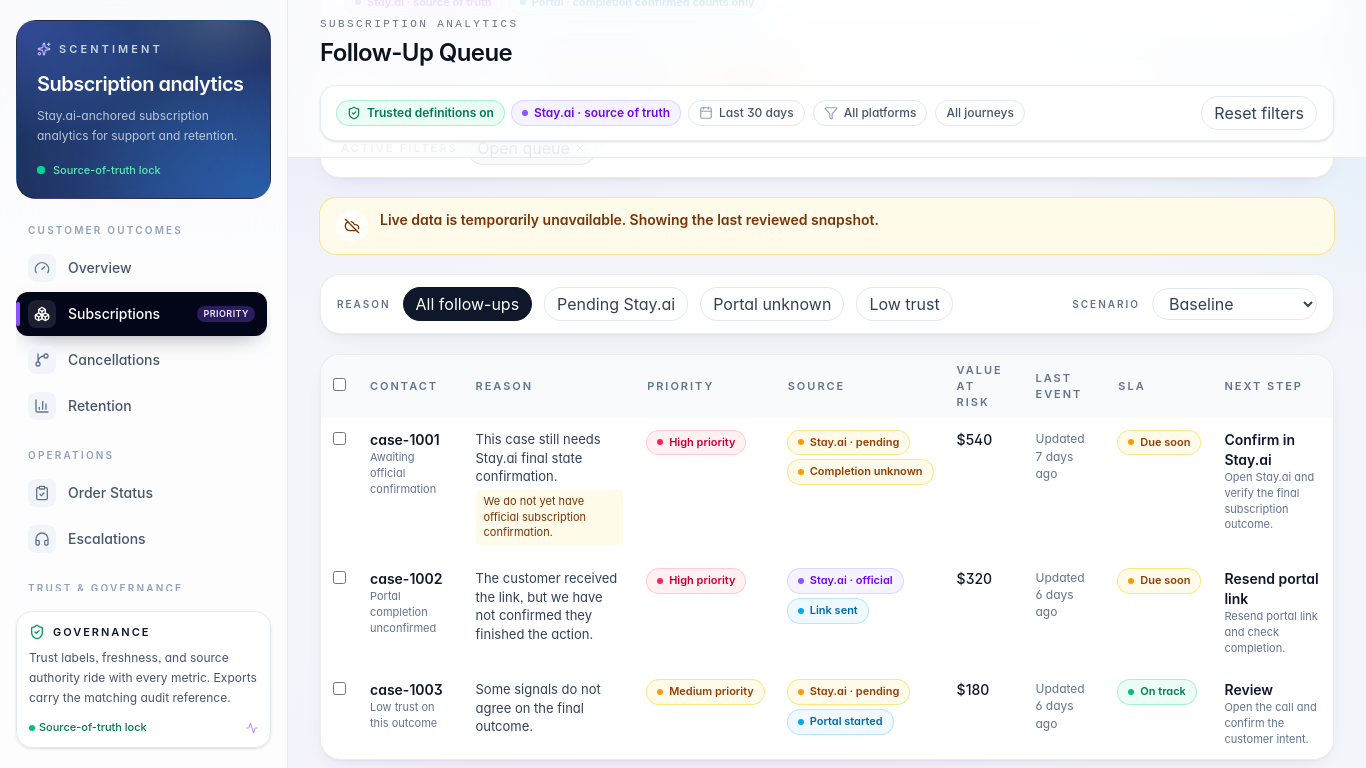
Test case: Follow-Up Queue page (B4) › renders the operator table with at least one row and supports row selection
(page scrolled)
Check: the table with test id "follow-up-table" is shown, box [321, 355, 1333, 759]
What coordinates should you click on to do the following:
click the checkbox named "Select all visible follow-ups"
I would click on:
 (340, 384)
Its box is [333, 378, 346, 391].
(page scrolled)
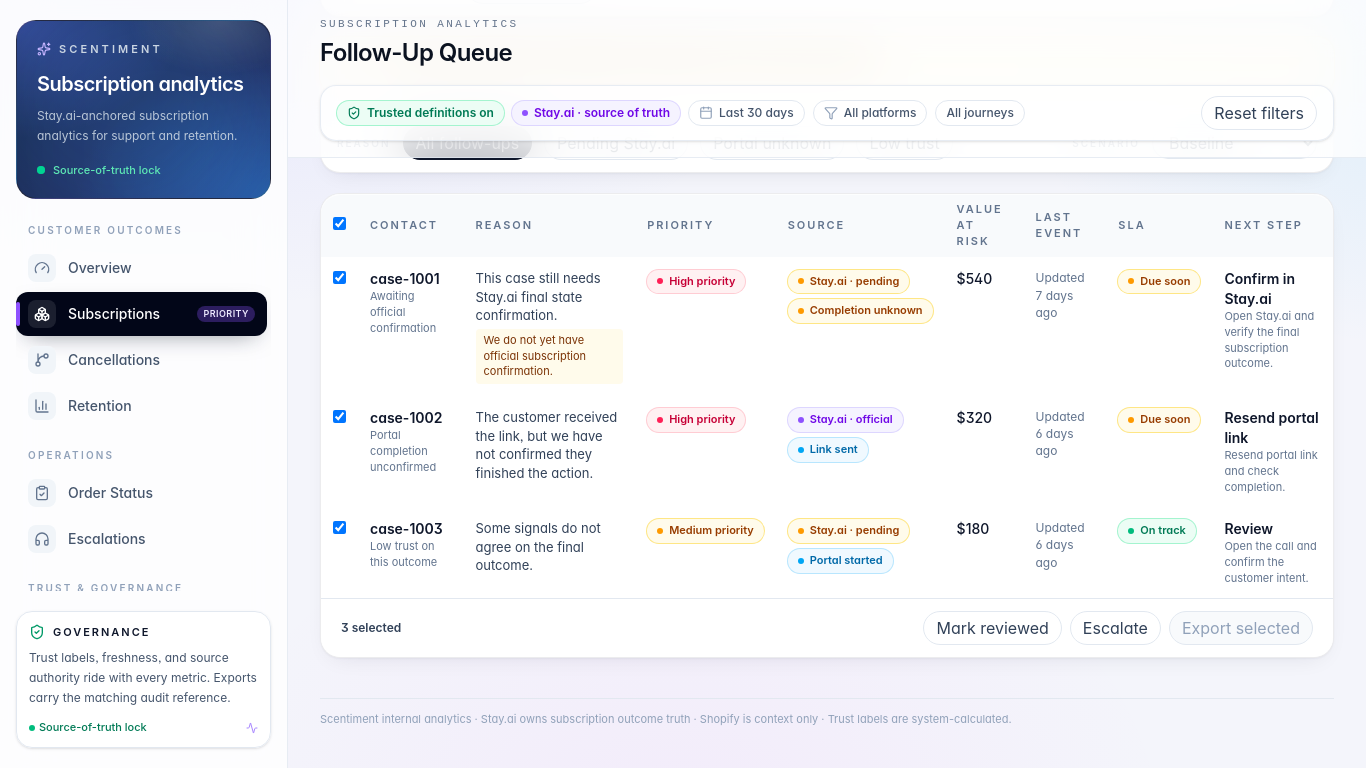
Check: the element with test id "follow-up-bulk-actions" is shown, box [321, 598, 1333, 657]
Check: the button "Export selected" is disabled, box [1169, 611, 1313, 645]
